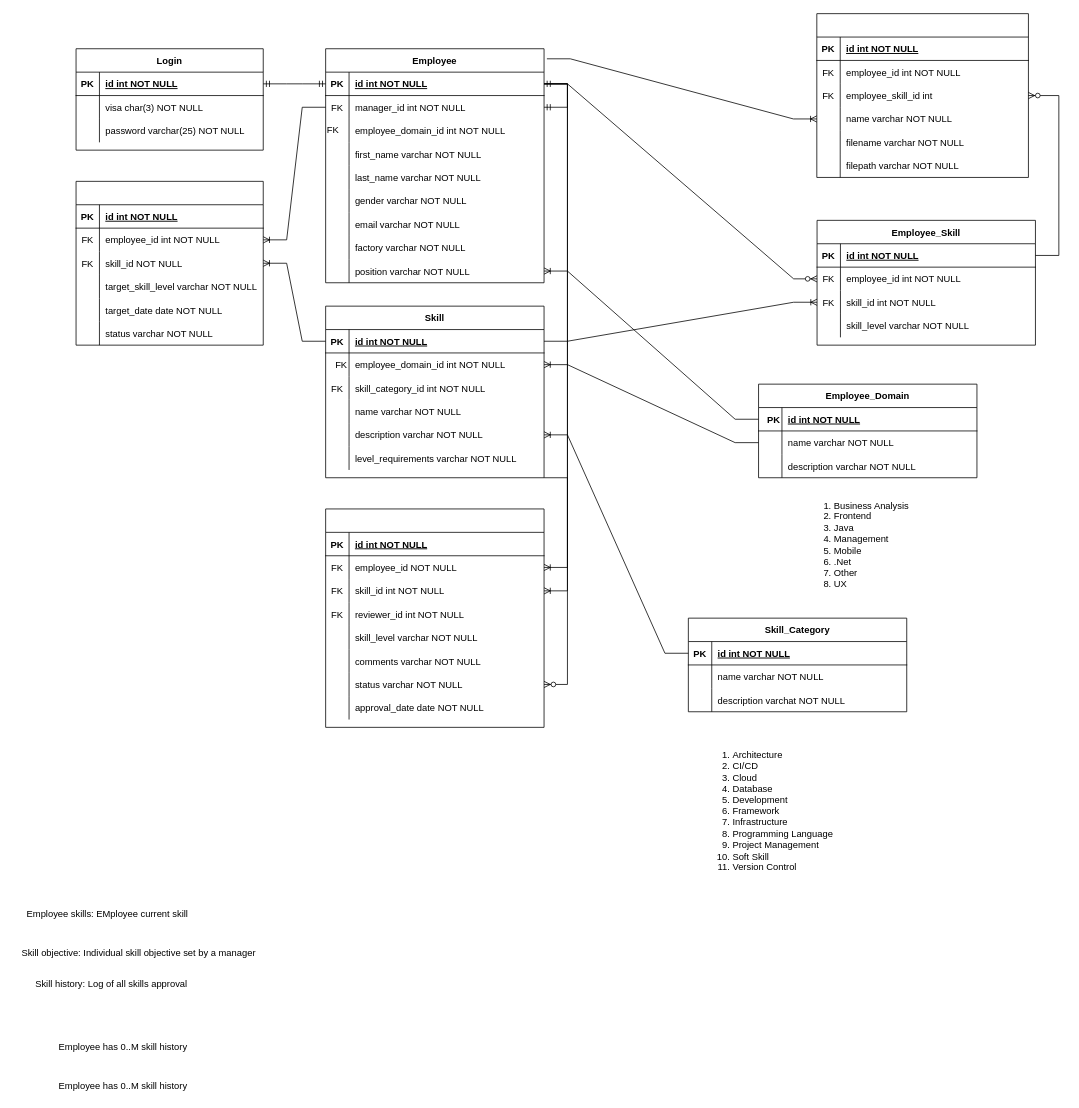
The diagram is 1079 pixels wide and 1108 high, and some of its shapes have lost their labels. Here are the shapes that lost their labels. From the top down, the box of each, then its label:
(816, 13, 1028, 177): Certificate
(75, 181, 263, 345): Skills_Objective
(325, 508, 544, 727): Skills_History
